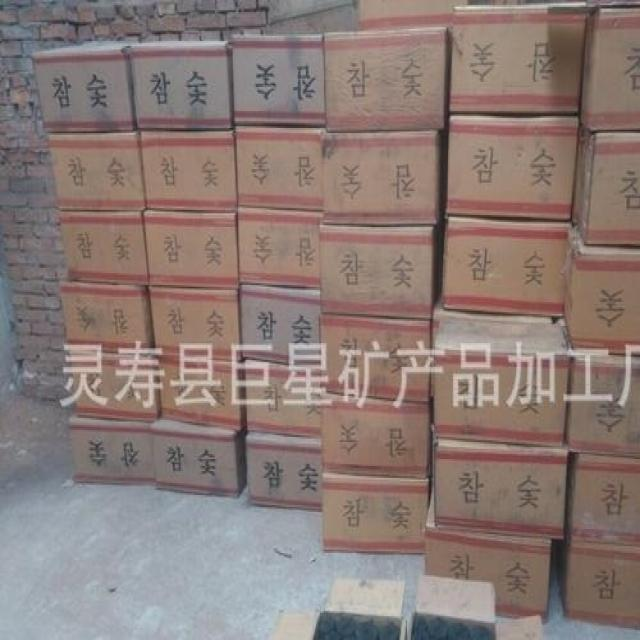box: (431, 297, 573, 448), (424, 482, 551, 623), (449, 6, 597, 114), (431, 426, 569, 539), (447, 116, 579, 220), (325, 27, 451, 131), (442, 217, 572, 315), (318, 219, 438, 318), (320, 130, 441, 225), (318, 312, 432, 403), (563, 227, 639, 356), (129, 41, 234, 129), (33, 43, 136, 132), (322, 400, 432, 479), (322, 473, 429, 554), (570, 121, 639, 246), (233, 35, 325, 125), (141, 128, 237, 212), (49, 129, 146, 211), (565, 353, 639, 457), (151, 418, 248, 497), (235, 126, 325, 211), (143, 209, 238, 289), (559, 539, 639, 632), (564, 452, 639, 551), (580, 7, 639, 132), (60, 281, 155, 355), (238, 206, 323, 288), (155, 357, 247, 432), (69, 349, 161, 422), (149, 287, 241, 360), (60, 211, 149, 286), (240, 285, 320, 368), (67, 413, 155, 486), (245, 432, 322, 511), (245, 360, 321, 438), (359, 0, 468, 33)
